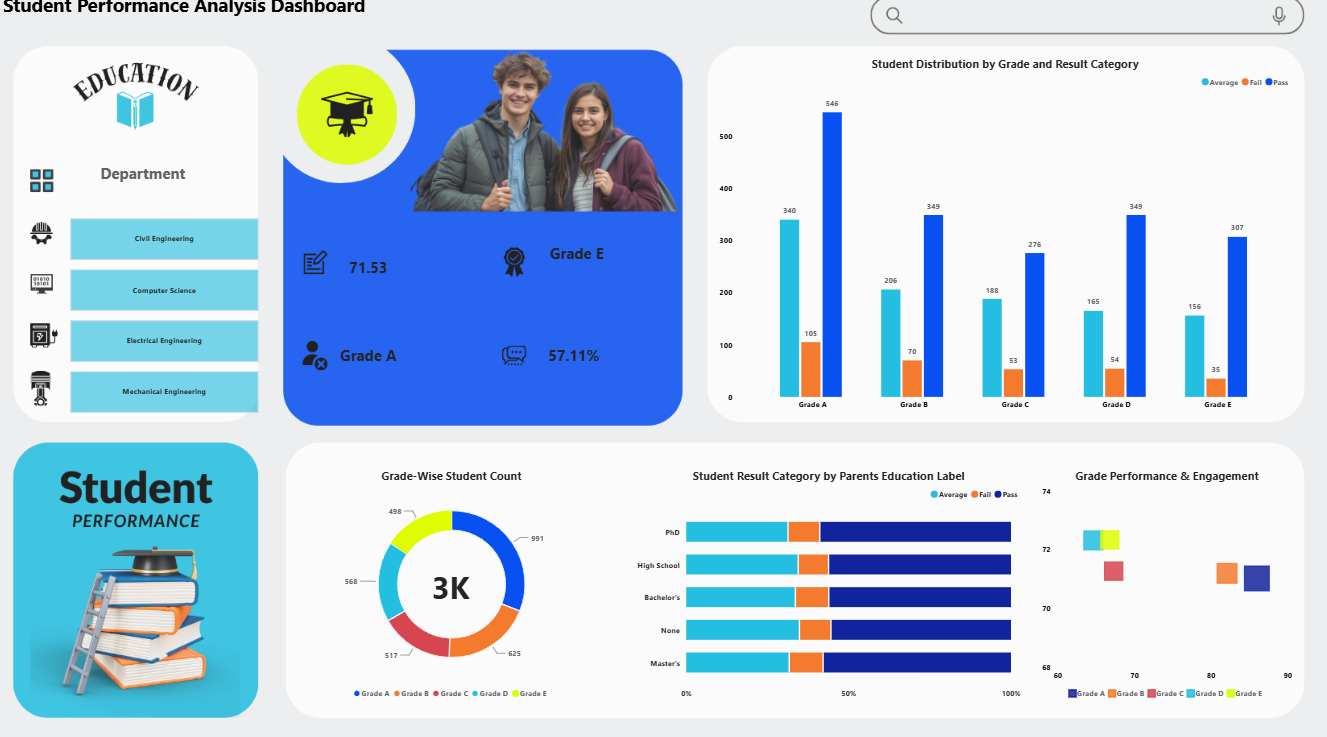

The dashboard page shown, as its layout file describes it:
{"tool":"powerbi","page":{"name":"Page 1","canvas":[1920,1080],"ordinal":0},"visuals":[{"type":"textbox","box":[11.9,0,928.1,54.9],"z":0},{"type":"cardVisual","fields":{"Data":["StudentData.Avg_Total_Score"]},"box":[427.1,305.4,217.1,174.2],"z":1},{"type":"cardVisual","fields":{"Data":["StudentData.Best_Performance_Grade"]},"box":[725.3,286.3,217.1,174.2],"z":2},{"type":"cardVisual","fields":{"Data":["StudentData.Worst_Performance_Grade"]},"box":[427.1,431.9,217.1,174.2],"z":3},{"type":"cardVisual","fields":{"Data":["StudentData.Overall_Pass_Rate (%)"]},"box":[722.9,431.9,217.1,174.2],"z":4},{"type":"clusteredColumnChart","title":"Student Distribution by Grade and Result Category","fields":{"Category":["StudentData.Grade"],"Y":["CountNonNull(StudentData.Student_ID)"],"Series":["StudentData.Final_Result_Category"]},"box":[1023.6,76.3,851.8,541.6],"z":5},{"type":"donutChart","title":"Grade-Wise Student Count","fields":{"Category":["StudentData.Grade"],"Y":["CountNonNull(StudentData.Student_ID)"]},"box":[427.1,668.1,455.7,365],"z":6},{"type":"cardVisual","fields":{"Data":["StudentData.Total_Student"]},"box":[546.4,763.5,217.1,174.2],"z":7},{"type":"hundredPercentStackedBarChart","title":"Student Result Category by Parents Education Label","fields":{"Category":["StudentData.Parent_Education_Level"],"Y":["CountNonNull(StudentData.Student_ID)"],"Series":["StudentData.Final_Result_Category"]},"box":[904.3,668.1,582.2,365],"z":8},{"type":"scatterChart","title":"Grade Performance & Engagement","fields":{"X":["Avg(StudentData.Attendance (%))"],"Y":["Avg(StudentData.Total Score)"],"Series":["StudentData.Grade"],"Size":["Sum(StudentData.Study_Hours_per_Week)"]},"box":[1484,668.1,391.3,365],"z":9},{"type":"advancedSlicerVisual","fields":{"Values":["StudentData.Department"]},"box":[109.8,324.5,269.6,281.5],"z":10},{"type":"textbox","box":[109.8,245.7,207.6,40.6],"z":11}]}

Visuals, with their boxes in screenshot pixels (x1, y1, x2, y2), scaled from the page's 1920x1080 canvas onto the 1327x737 screenshot:
textbox: bbox=[8, 0, 650, 37]
cardVisual - StudentData.Avg_Total_Score: bbox=[295, 208, 445, 327]
cardVisual - StudentData.Best_Performance_Grade: bbox=[501, 195, 651, 314]
cardVisual - StudentData.Worst_Performance_Grade: bbox=[295, 295, 445, 414]
cardVisual - StudentData.Overall_Pass_Rate (%): bbox=[500, 295, 650, 414]
"Student Distribution by Grade and Result Category" clusteredColumnChart: bbox=[707, 52, 1296, 422]
"Grade-Wise Student Count" donutChart: bbox=[295, 456, 610, 705]
cardVisual - StudentData.Total_Student: bbox=[378, 521, 528, 640]
"Student Result Category by Parents Education Label" hundredPercentStackedBarChart: bbox=[625, 456, 1027, 705]
"Grade Performance & Engagement" scatterChart: bbox=[1026, 456, 1296, 705]
advancedSlicerVisual - StudentData.Department: bbox=[76, 221, 262, 414]
textbox: bbox=[76, 168, 219, 195]
